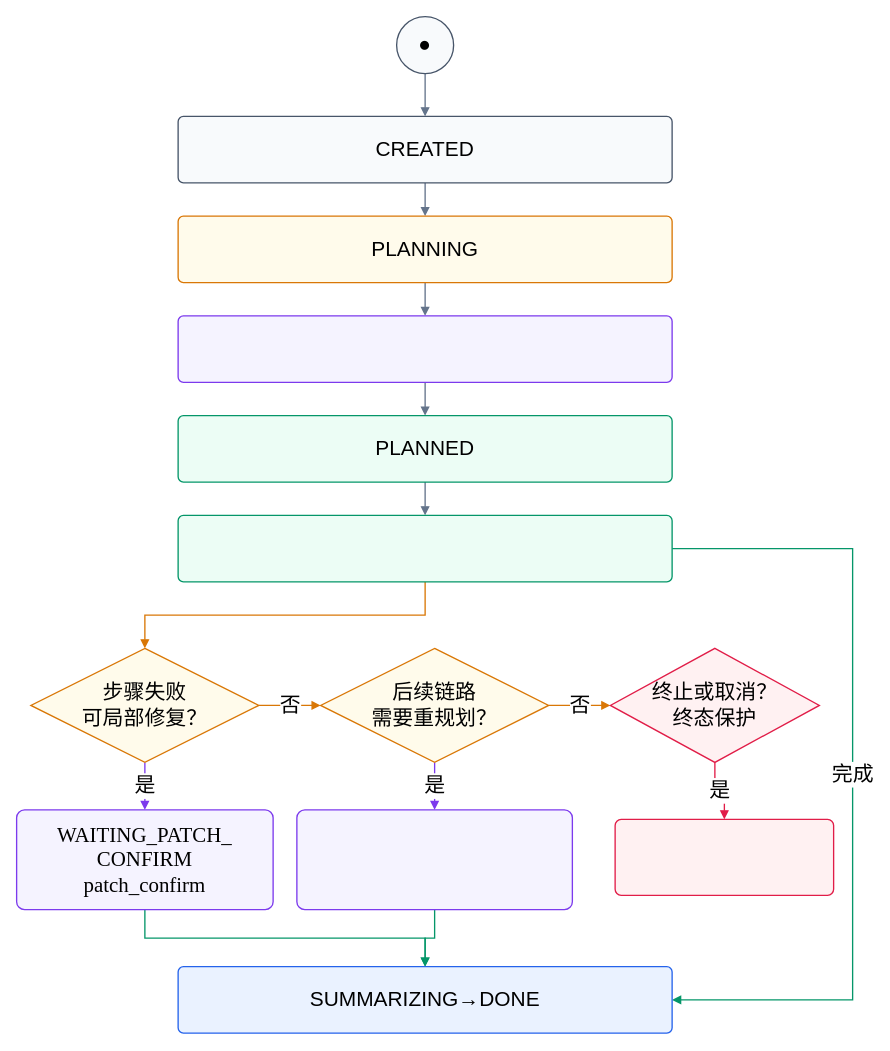
Some shapes in this 890 by 1051 pixel diagram are drawn without their labels. The shapes that lost their labels are listed below. From the top down, each one's centre as x and y in pixels, then its label:
At (424,349): "WAITING_PLAN_CONFIRM PendingAction(plan_confirm)".
At (424,548): "RUNNING".
At (434,859): "WAITING_REPLAN_ CONFIRM replan_confirm".
At (724,857): "FAILED/CANCELLED".
